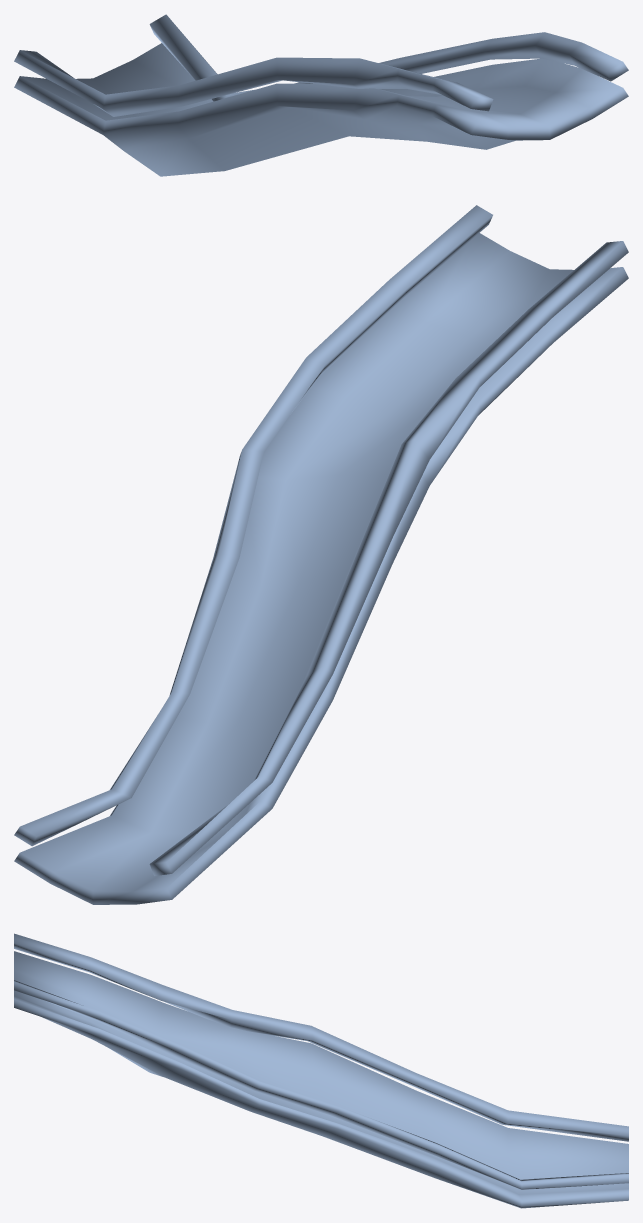
File: junRoadShortSlope2p5.fbx
The picture shows the model from 3 angles, top to bottom: view 1: azimuth 30°, elevation 25°; view 2: azimuth 150°, elevation 25°; view 3: azimuth 270°, elevation 25°; orthographic projection. The views are drawn at different scales.
Parts seen in each view (by area): view 1: junRoadShortSlope2p5_LOD0, junRoadShortSlope2p5_edge_LOD0; view 2: junRoadShortSlope2p5_LOD0, junRoadShortSlope2p5_edge_LOD0; view 3: junRoadShortSlope2p5_LOD0, junRoadShortSlope2p5_edge_LOD0.
Part boxes in pixels (x1,y1,x2,y2): junRoadShortSlope2p5_LOD0: (14,43,628,176); junRoadShortSlope2p5_edge_LOD0: (14,14,628,116); junRoadShortSlope2p5_LOD0: (14,233,628,904); junRoadShortSlope2p5_edge_LOD0: (14,205,628,875); junRoadShortSlope2p5_LOD0: (14,951,628,1208); junRoadShortSlope2p5_edge_LOD0: (14,933,628,1189).
Size of the model in its own units: 427 by 685 by 1590.
